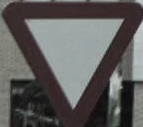Give way: (3, 2, 138, 121)
